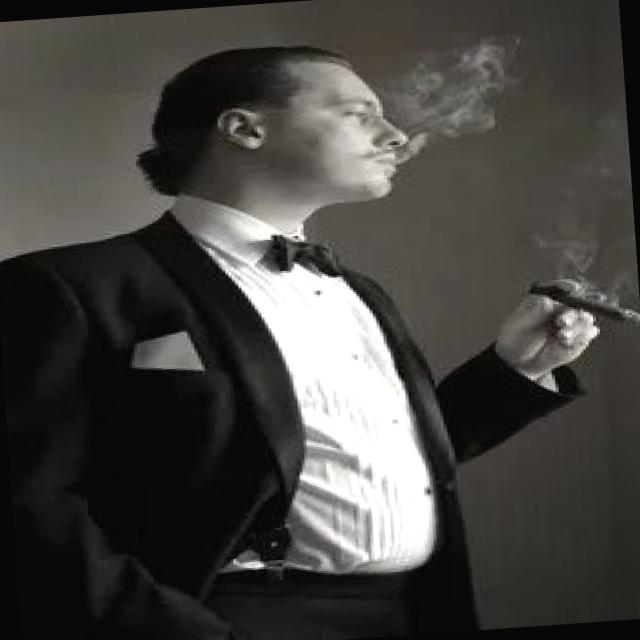cigarette: (526, 269, 640, 339)
